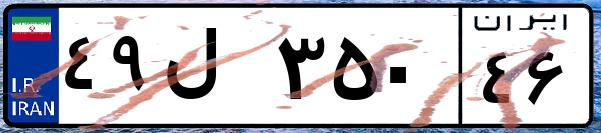0: (385, 28, 445, 110)
3: (270, 28, 330, 110)
4: (57, 26, 110, 100), (475, 38, 525, 113)
5: (330, 28, 385, 110)
6: (525, 38, 570, 115)
9: (110, 28, 158, 98)
ل: (158, 20, 270, 120)
